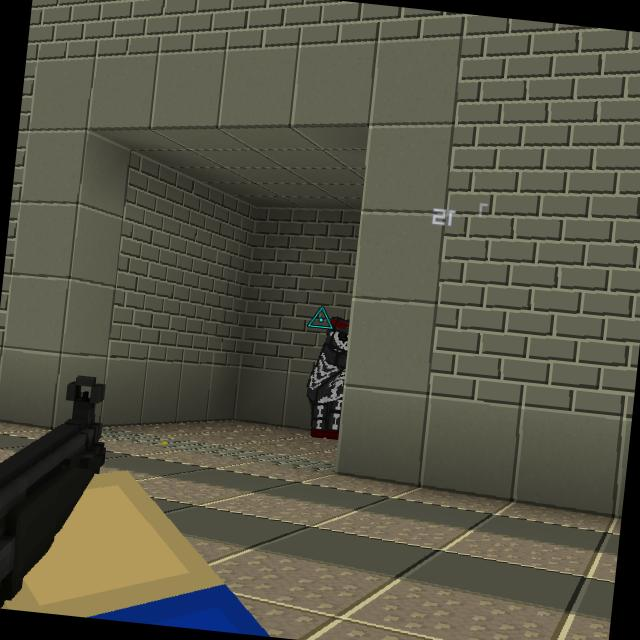enemy: (298, 312, 352, 443)
